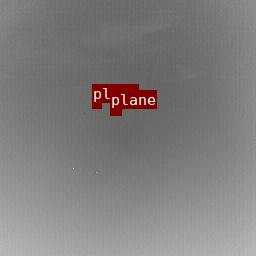plane: (110, 109, 121, 115), (92, 103, 101, 108)
